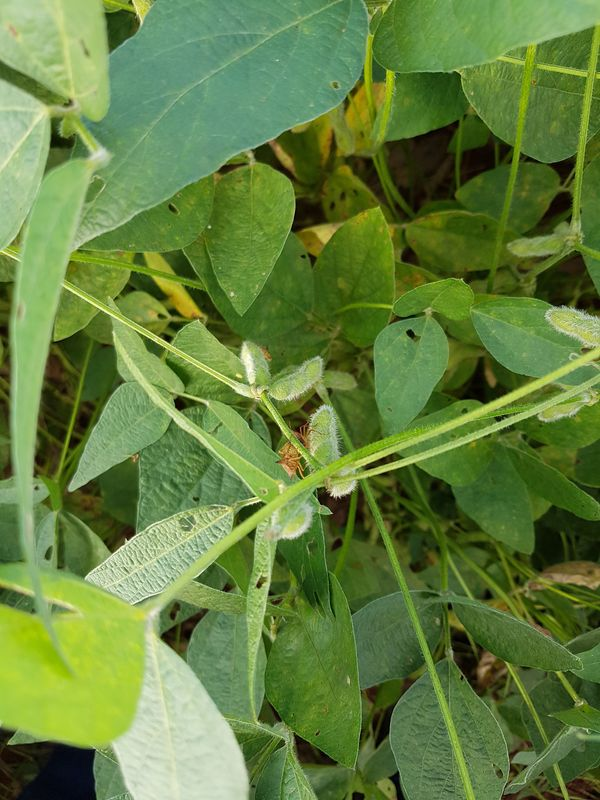Euschistus_heros_adulto: (271, 420, 330, 482)
